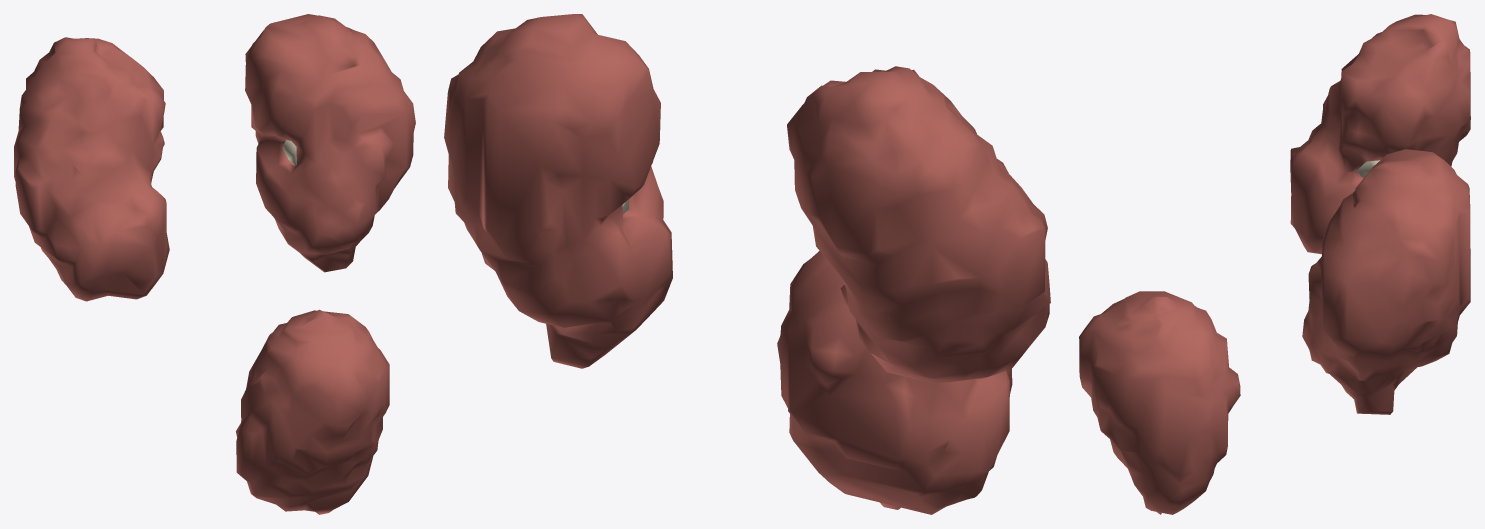
The model's file is fetus.urinary.LOD2.glb.
3 views of the same model, side by side, from view 1: azimuth 30°, elevation 25°; view 2: azimuth 150°, elevation 25°; view 3: azimuth 270°, elevation 25° (orthographic). The views are drawn at different scales.
Visible parts, largest first — view 1: FETUS.URINARY.RENAL_PARENCHYMA.R, FETUS.URINARY.RENAL_PARENCHYMA.L, FETUS.URINARY.BLADDER; view 2: FETUS.URINARY.RENAL_PARENCHYMA.L, FETUS.URINARY.RENAL_PARENCHYMA.R, FETUS.URINARY.BLADDER; view 3: FETUS.URINARY.RENAL_PARENCHYMA.L, FETUS.URINARY.BLADDER, FETUS.URINARY.RENAL_PARENCHYMA.R.
Part boxes in pixels (x1=…): FETUS.URINARY.RENAL_PARENCHYMA.R: x1=14, y1=37, x2=169, y2=301; FETUS.URINARY.RENAL_PARENCHYMA.L: x1=245, y1=14, x2=415, y2=272; FETUS.URINARY.BLADDER: x1=236, y1=309, x2=389, y2=514; FETUS.URINARY.RENAL_PARENCHYMA.L: x1=444, y1=14, x2=672, y2=368; FETUS.URINARY.RENAL_PARENCHYMA.R: x1=787, y1=66, x2=1050, y2=383; FETUS.URINARY.BLADDER: x1=777, y1=251, x2=1012, y2=514; FETUS.URINARY.RENAL_PARENCHYMA.L: x1=1302, y1=149, x2=1470, y2=414; FETUS.URINARY.BLADDER: x1=1079, y1=291, x2=1240, y2=514; FETUS.URINARY.RENAL_PARENCHYMA.R: x1=1290, y1=14, x2=1470, y2=254.
Size of the model in its own units: 0.0533 by 0.0556 by 0.0457.
